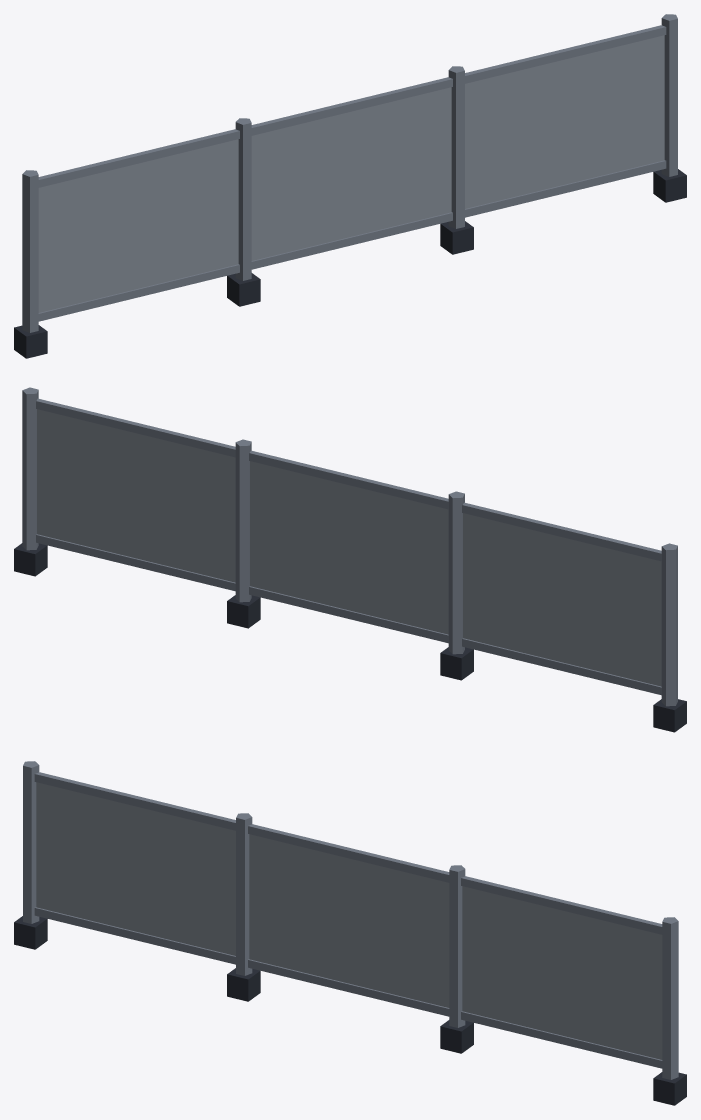
The model's file is fence.glb.
The picture shows the model from 3 angles, top to bottom: view 1: azimuth 30°, elevation 25°; view 2: azimuth 150°, elevation 25°; view 3: azimuth 330°, elevation 25°; orthographic projection.
Visible parts, largest first — view 1: fence; view 2: fence; view 3: fence.
Boxes of the visible parts, box(x1,y1,x2,y2) form: fence: box(14, 14, 686, 358); fence: box(14, 387, 686, 732); fence: box(14, 761, 686, 1105).
Size of the model in its own units: 6.2 by 1.6 by 0.2.
